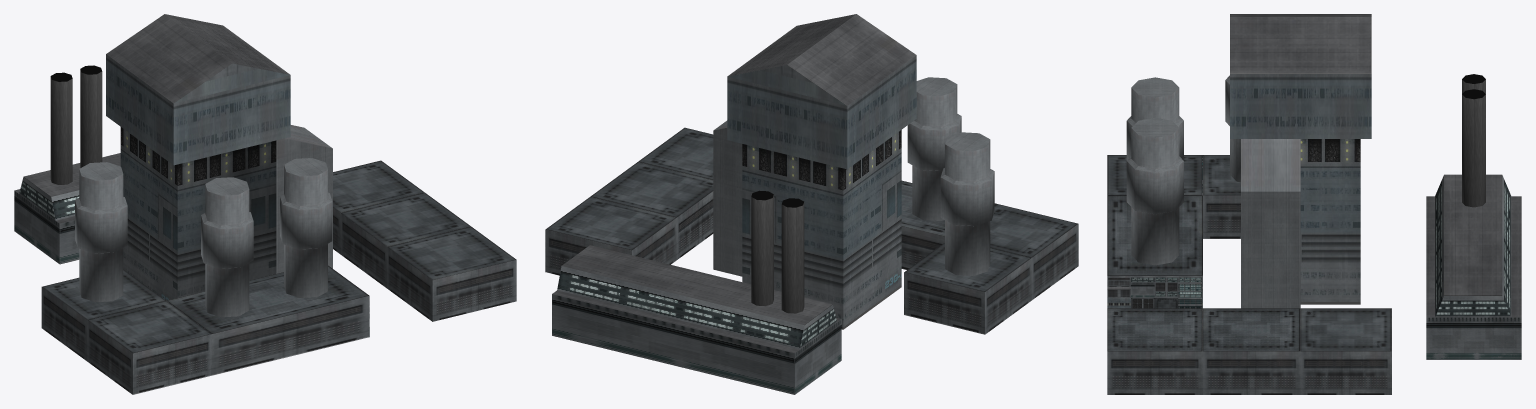
File: Fact02.fbx
3 renders of one model, left to right at view 1: azimuth 30°, elevation 25°; view 2: azimuth 150°, elevation 25°; view 3: azimuth 270°, elevation 25°, orthographic. The views are drawn at different scales.
Parts seen in each view (by area): view 1: Fact02; view 2: Fact02; view 3: Fact02.
Part boxes in pixels (x1,y1,x2,y2): Fact02: (14,14,516,394); Fact02: (545,14,1078,394); Fact02: (1107,14,1521,394).
Bounding box in the file's own units: 311 × 194 × 278.
